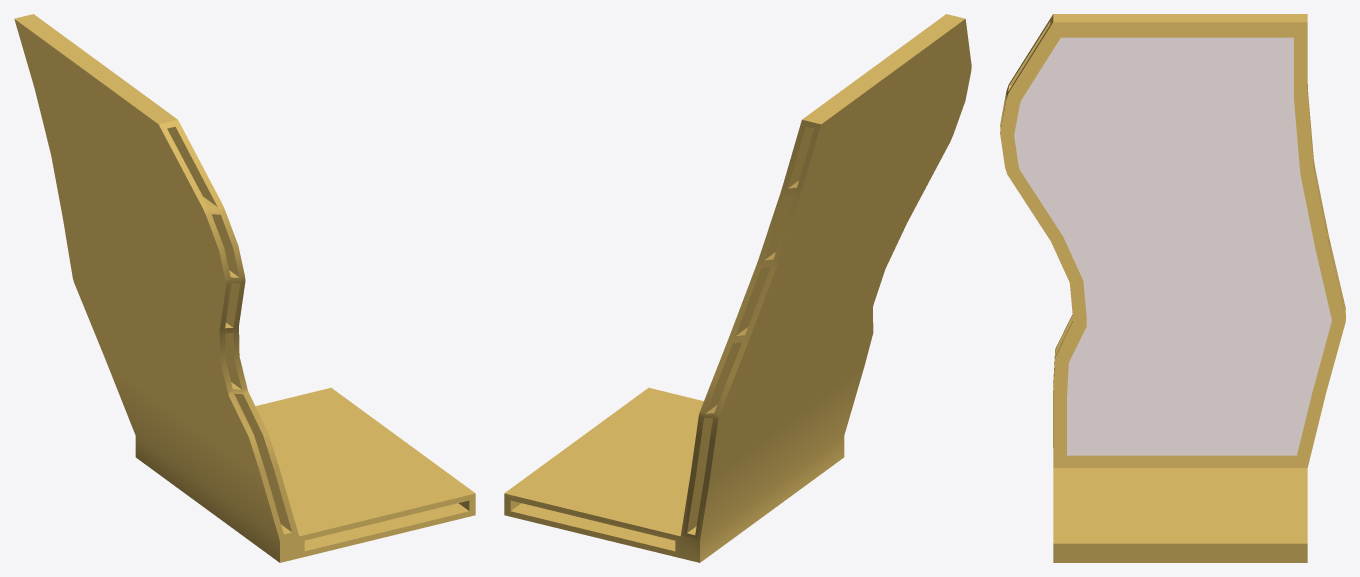
File: PapelaoTeste.fbx
3 views of the same model, side by side, from view 1: azimuth 30°, elevation 25°; view 2: azimuth 150°, elevation 25°; view 3: azimuth 270°, elevation 25° (orthographic). The views are drawn at different scales.
Visible parts, largest first — view 1: Papelao; view 2: Papelao; view 3: Papel, Papelao.
Boxes of the visible parts, x1,y1,x2,y2 form: Papelao: (14,14,475,562); Papelao: (504,14,971,562); Papel: (1014,37,1331,455); Papelao: (1000,14,1345,562).
Size of the model in its own units: 254 by 358 by 272.
